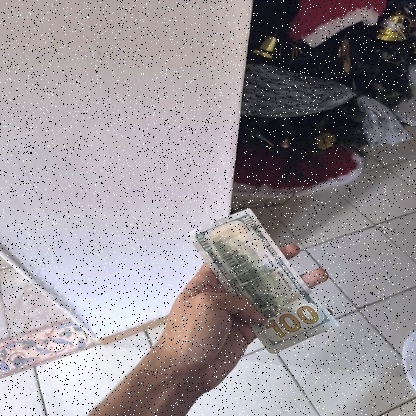one_hundred-back: (185, 205, 339, 358)
